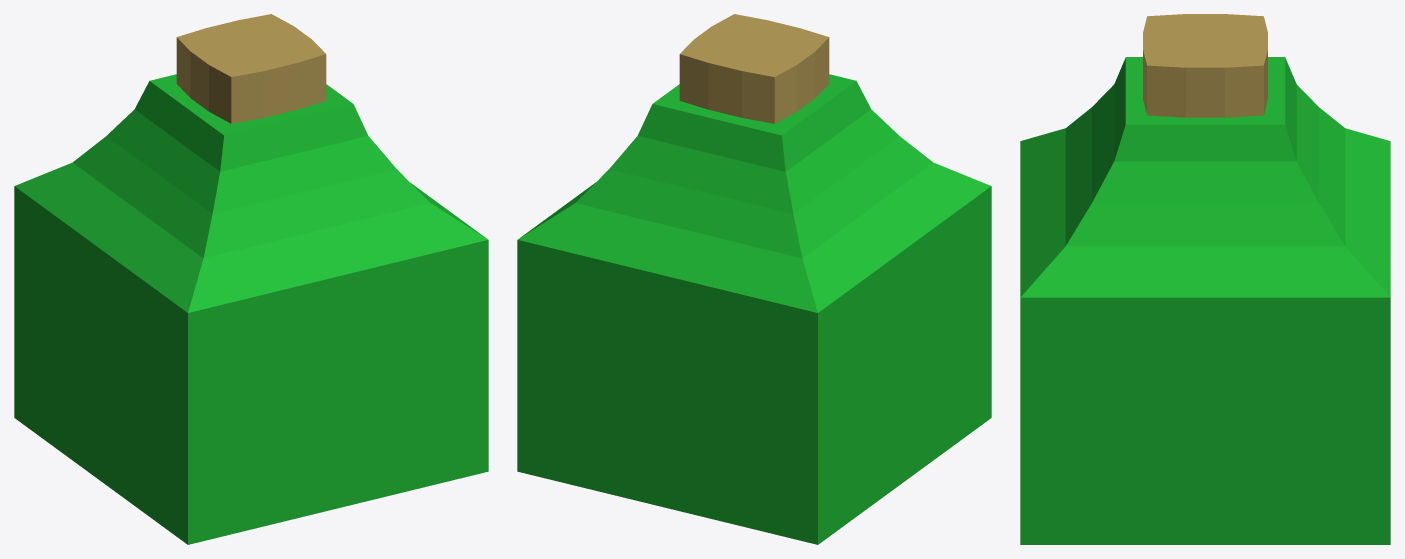
The model's file is MediumPotion_Stamina.fbx.
3 renders of one model, left to right at view 1: azimuth 30°, elevation 25°; view 2: azimuth 150°, elevation 25°; view 3: azimuth 270°, elevation 25°, orthographic. The views are drawn at different scales.
Visible parts, largest first — view 1: MediumPotion_Stamina; view 2: MediumPotion_Stamina; view 3: MediumPotion_Stamina.
Boxes of the visible parts, x1,y1,x2,y2 form: MediumPotion_Stamina: (14,14,488,544); MediumPotion_Stamina: (517,14,991,544); MediumPotion_Stamina: (1020,14,1390,544).
Bounding box in the file's own units: 414 × 526 × 414.
